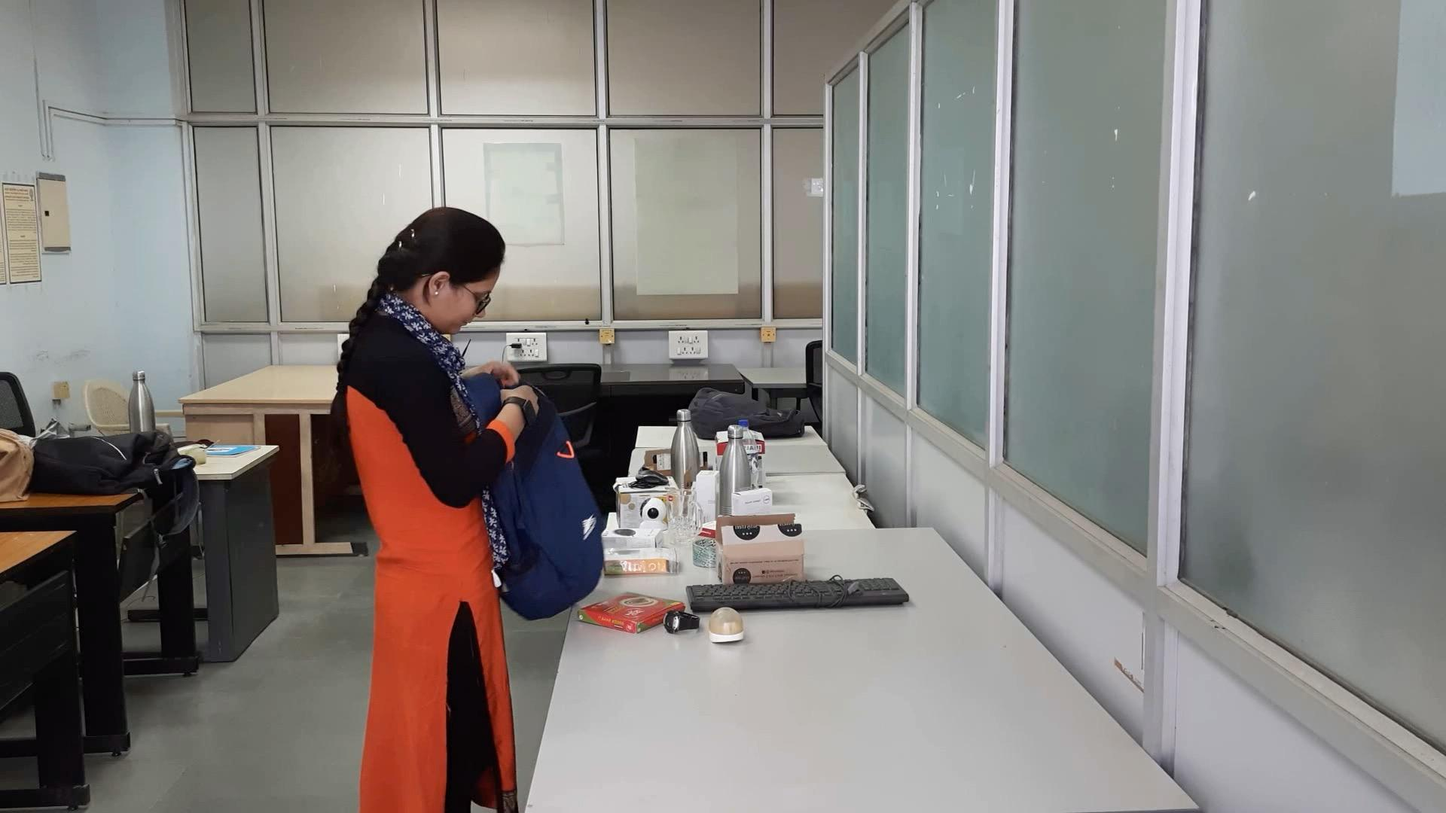shoplifting: (226, 329, 643, 615)
